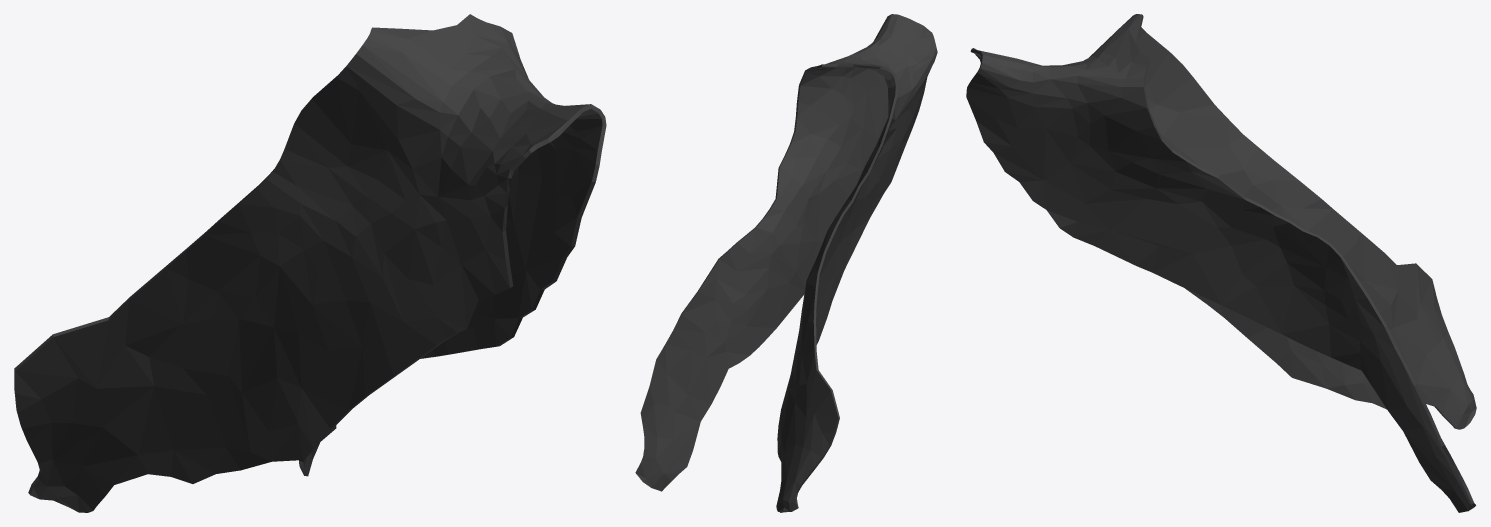
Rendered from c2_arch.glb.
3 renders of one model, left to right at view 1: azimuth 30°, elevation 25°; view 2: azimuth 150°, elevation 25°; view 3: azimuth 270°, elevation 25°, orthographic. The views are drawn at different scales.
Visible parts, largest first — view 1: c2_arch; view 2: c2_arch; view 3: c2_arch.
Part boxes in pixels (x1,y1,x2,y2): c2_arch: (14,14,606,512); c2_arch: (635,14,937,512); c2_arch: (966,14,1476,512).
Size of the model in its own units: 21.11 by 36.76 by 38.49.
1 material, 1 textured.
